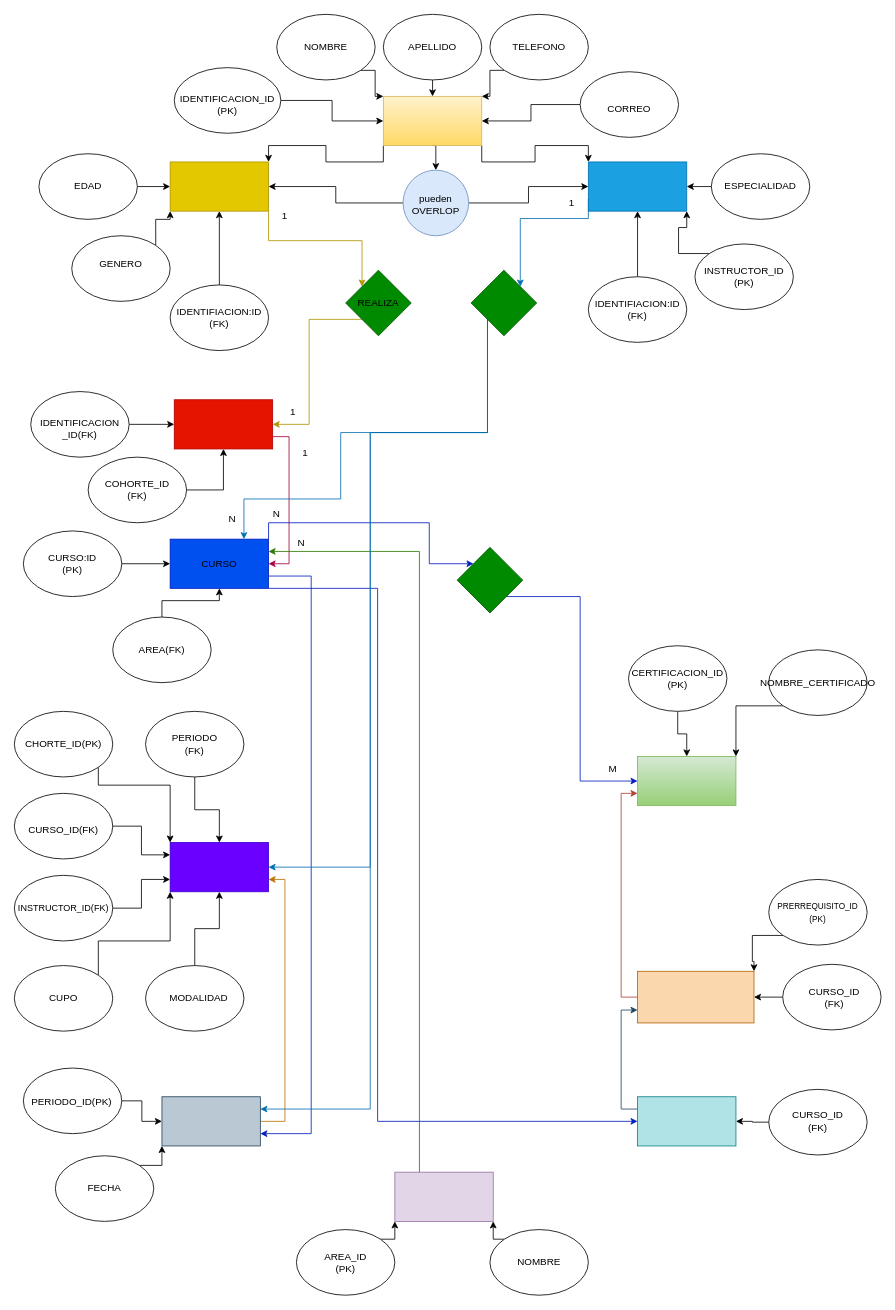
This 895x1310 diagram has some shape labels left out. Each missing label, with the centre of its shape:
AREA_CONOCIMIENTO: the point at 443,1196
CERTIFICACION: the point at 686,781
COHORTE: the point at 219,867
ENSEÑA: the point at 503,302
ESTUDIANTE: the point at 219,186
FINALIZA: the point at 489,580
INSCRICPION: the point at 223,424
INSTRUCTOR: the point at 637,186
PERIODO: the point at 210,1121
PERSONA: the point at 432,121
PRERREQUISITOS: the point at 686,1121
REQUISITO_CERTIFICACION: the point at 695,996
